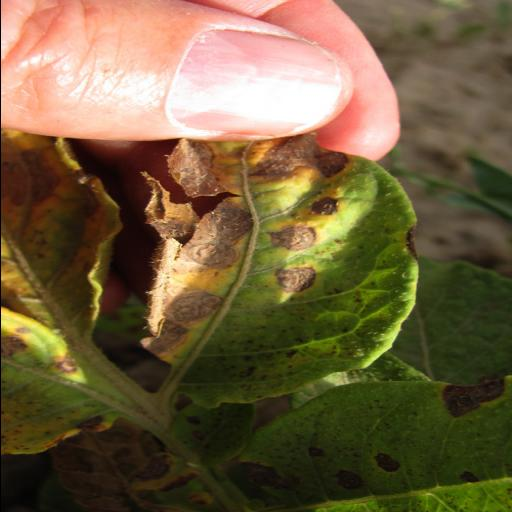disease_tomato: (134, 136, 418, 414)
